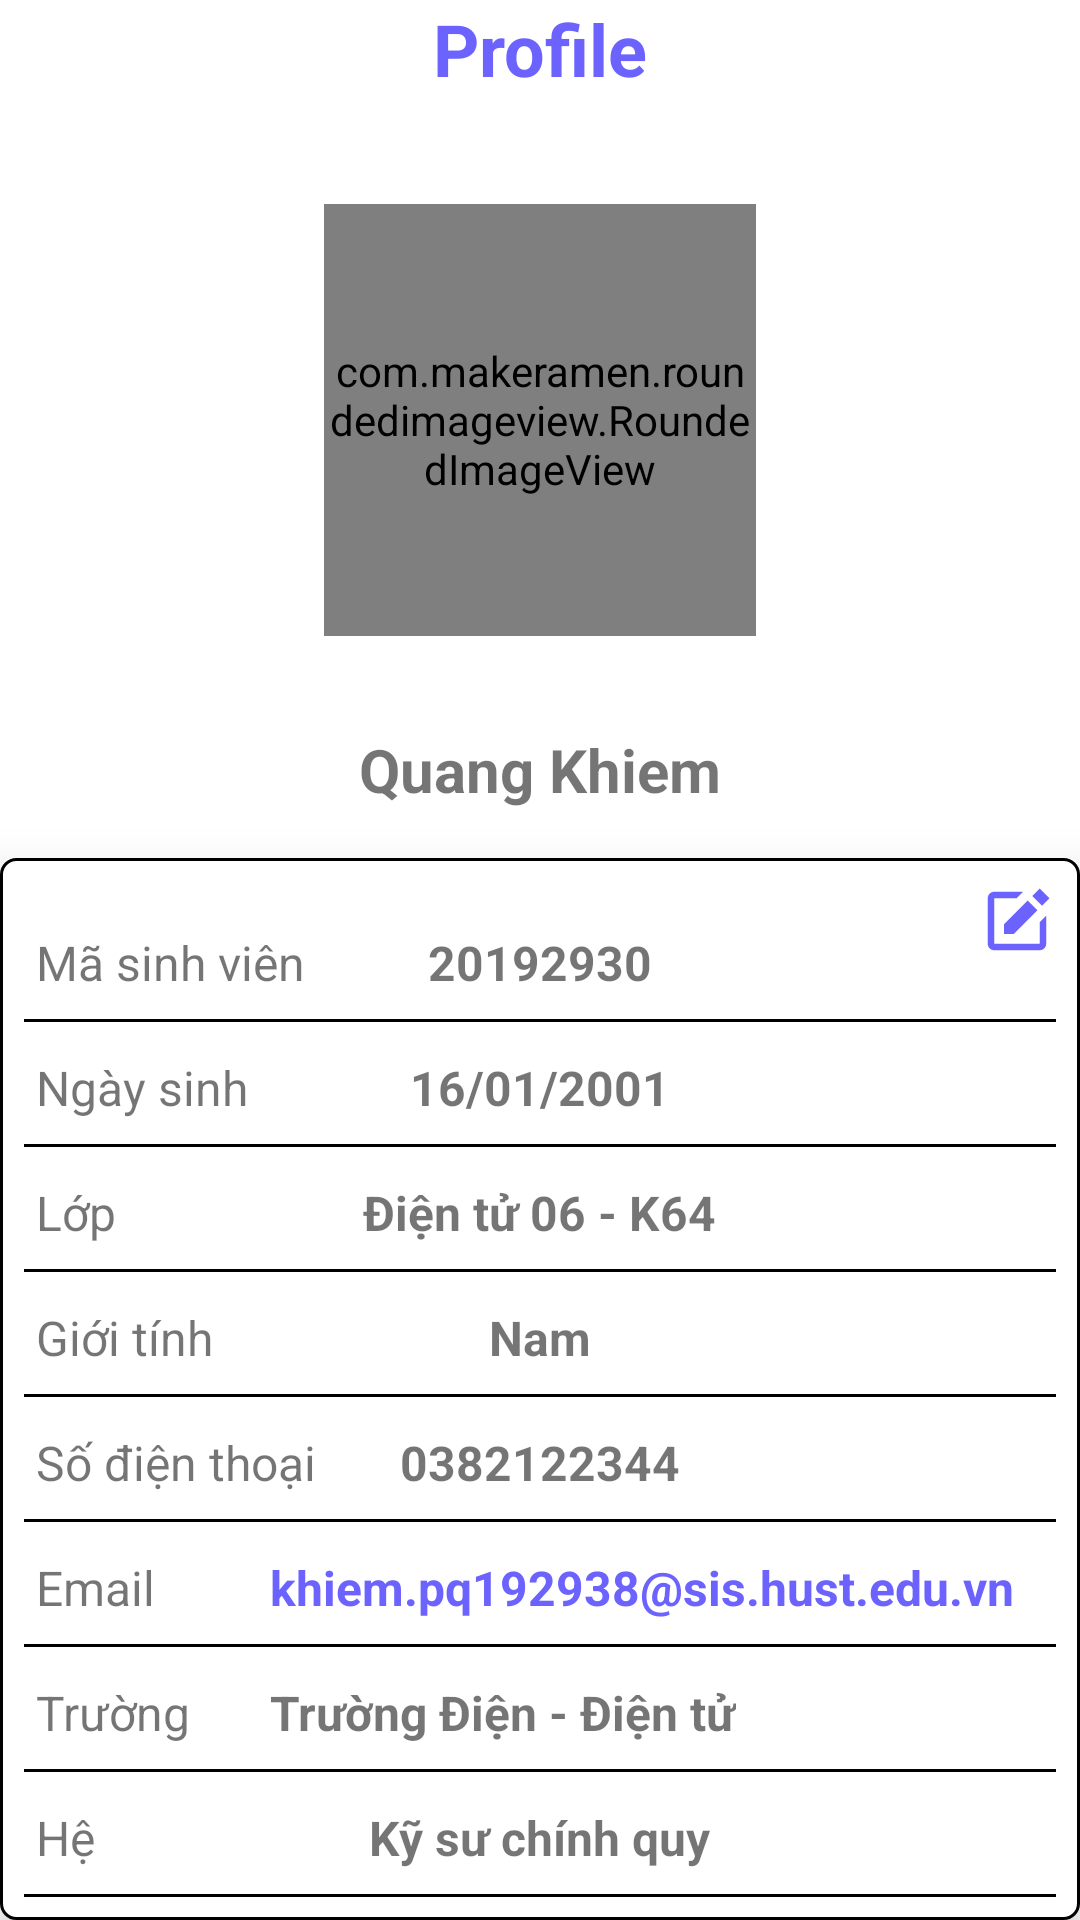

Named icons in this screenshot (1080w x 1920h) and their bounding boxes, (x1, y1, x2, y2):
edit: (987, 888, 1050, 951)
